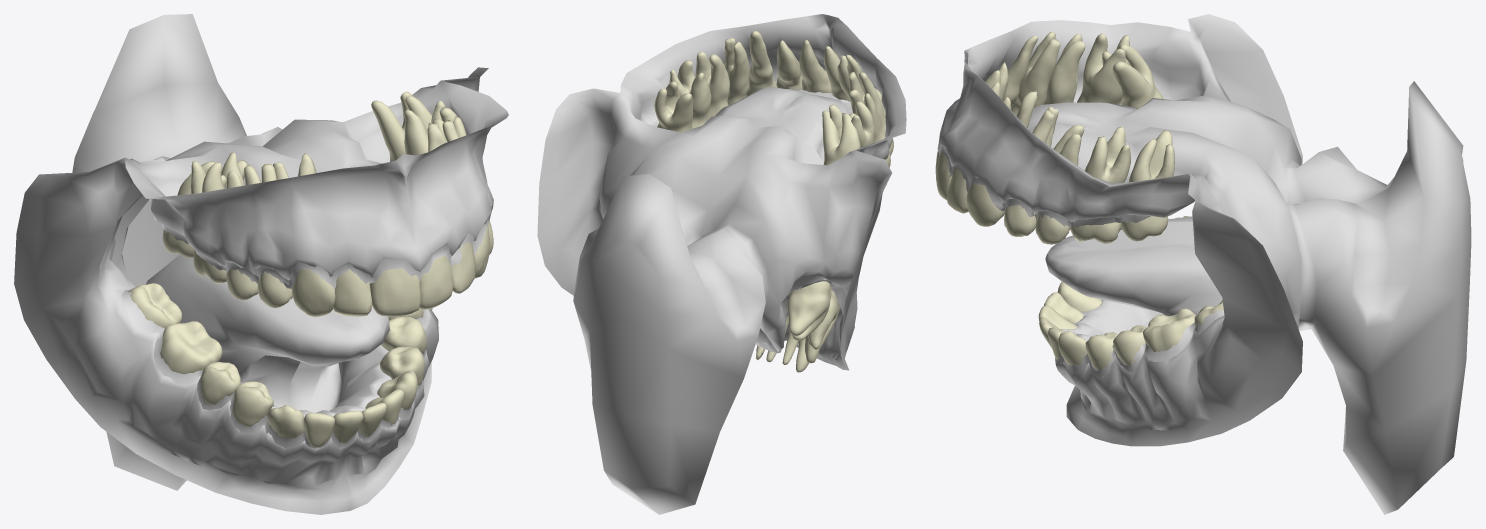
The model's file is 2022-09-18_mouth_sketchfab_edit.fbx.
3 renders of one model, left to right at view 1: azimuth 30°, elevation 25°; view 2: azimuth 150°, elevation 25°; view 3: azimuth 270°, elevation 25°, orthographic. The views are drawn at different scales.
Visible parts, largest first — view 1: mouth, vse_zuby_bez_treh, wet, zub_36_c; view 2: mouth, vse_zuby_bez_treh; view 3: mouth, vse_zuby_bez_treh, wet, zub_37_b, zub_36_c.
Boxes of the visible parts, x1,y1,x2,y2 form: mouth: [14, 14, 508, 514]; vse_zuby_bez_treh: [128, 91, 493, 447]; wet: [120, 216, 489, 448]; zub_36_c: [381, 316, 426, 353]; mouth: [537, 14, 906, 514]; vse_zuby_bez_treh: [654, 31, 893, 372]; mouth: [937, 14, 1471, 514]; vse_zuby_bez_treh: [935, 32, 1190, 370]; wet: [938, 91, 1224, 377]; zub_37_b: [1143, 308, 1196, 351]; zub_36_c: [1113, 325, 1146, 366].
Bounding box in the file's own units: 10.47 × 11.46 × 12.06.
